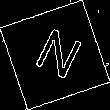N_SW: (26, 24, 84, 86)
